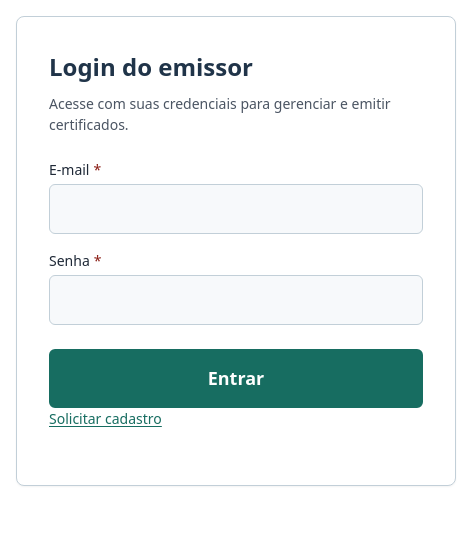
Test: LoginPage (CT1/CT3) › valida campos obrigatórios no cliente sem chamar a API
This screenshot has width=473, height=553.
Click the button "Entrar". click: (236, 378)
box: [49, 349, 423, 408]
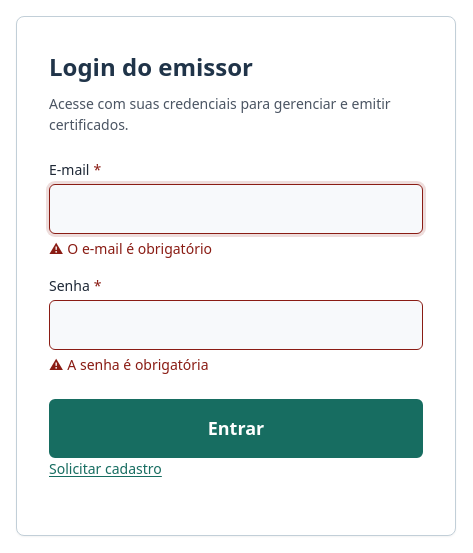
Now the text "O e-mail é obrigatório" is shown, box [67, 239, 212, 258]
Now the text "A senha é obrigatória" is shown, box [67, 355, 209, 374]
